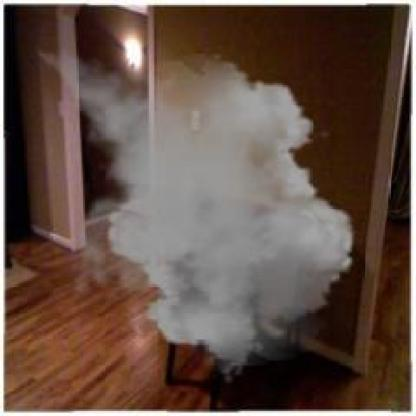Smoke: (18, 41, 365, 384)
